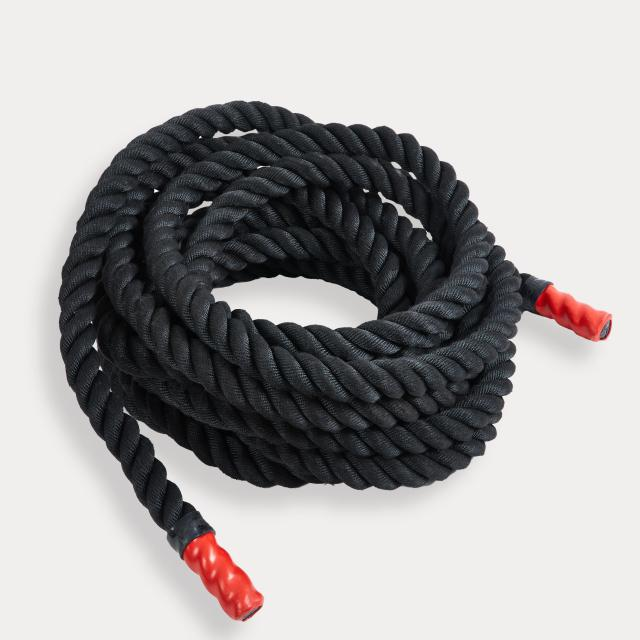Rope: (54, 78, 614, 631)
